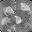people: (3, 6, 15, 16), (1, 17, 12, 26), (14, 16, 22, 25)
